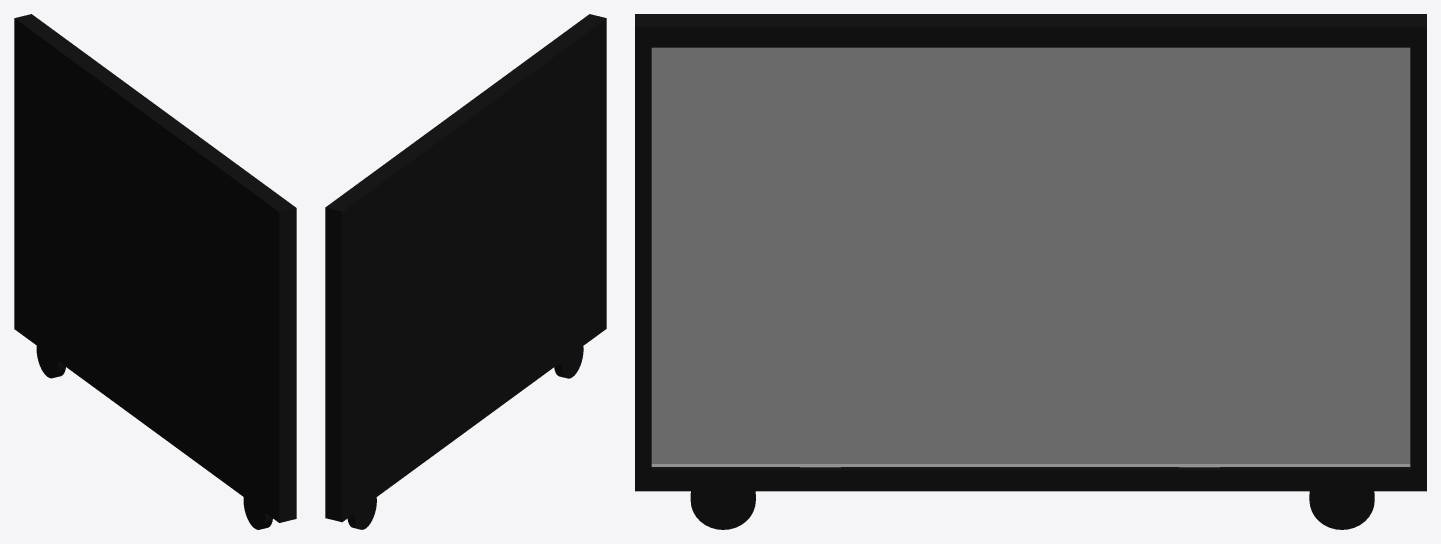
Rendered from Panneau.fbx.
3 views of the same model, side by side, from view 1: azimuth 30°, elevation 25°; view 2: azimuth 150°, elevation 25°; view 3: azimuth 270°, elevation 25° (orthographic). The views are drawn at different scales.
Visible parts, largest first — view 1: Cylinder; view 2: Cylinder; view 3: Cylinder.
Part boxes in pixels (x1,y1,x2,y2): Cylinder: [14, 14, 296, 529]; Cylinder: [325, 14, 606, 529]; Cylinder: [635, 14, 1426, 529].
Bounding box in the file's own units: 84.16 × 1587 × 2246.
